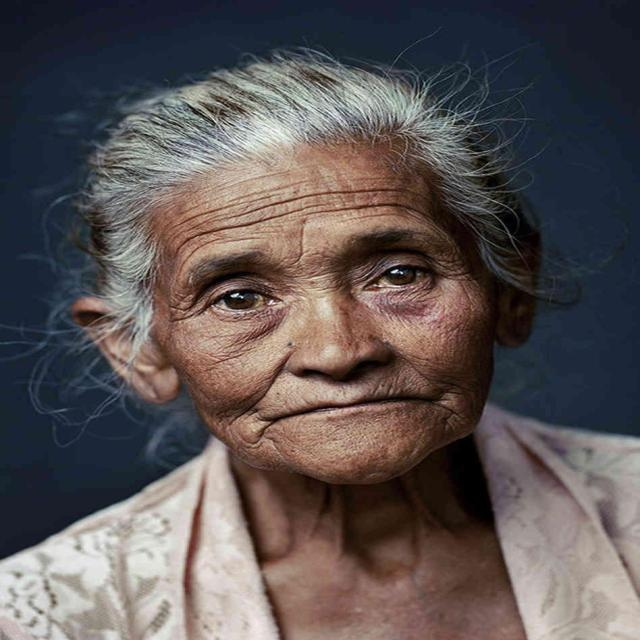Wrinkles: (183, 187, 435, 232), (167, 173, 345, 231), (174, 203, 331, 255), (228, 350, 296, 426), (218, 161, 334, 190), (400, 352, 473, 392), (301, 204, 437, 223), (175, 237, 220, 286), (436, 402, 466, 439), (238, 422, 273, 445), (341, 212, 418, 221), (290, 224, 305, 266), (219, 237, 265, 243)
